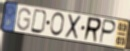D: (30, 8, 48, 35)
G: (16, 7, 32, 32)
O: (49, 12, 65, 38)
P: (99, 18, 117, 45)
R: (82, 15, 103, 43)
X: (64, 13, 83, 41)
